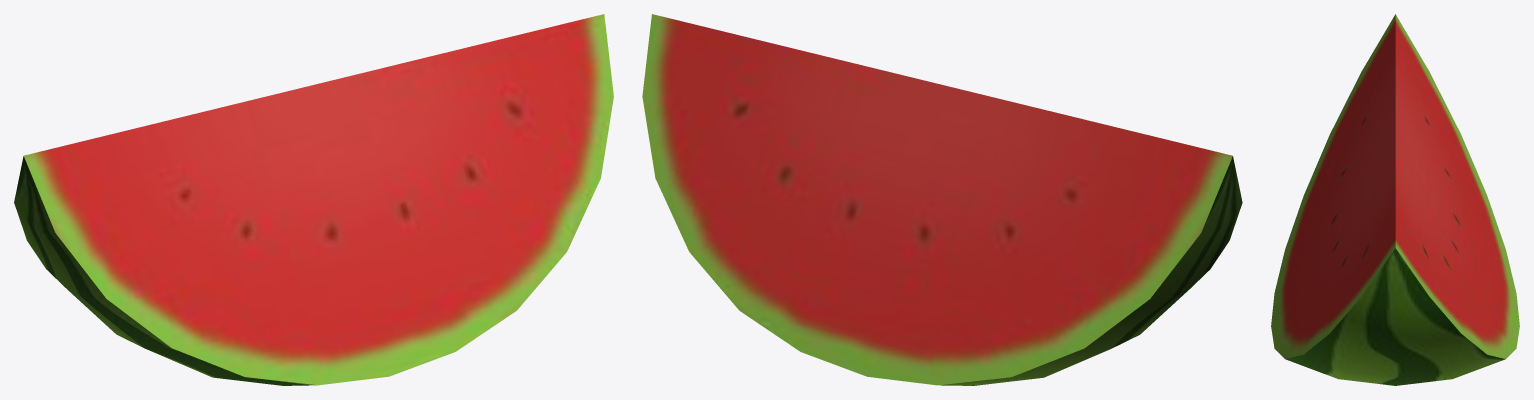
The model's file is watermelon.glb.
3 renders of one model, left to right at view 1: azimuth 30°, elevation 25°; view 2: azimuth 150°, elevation 25°; view 3: azimuth 270°, elevation 25°, orthographic. The views are drawn at different scales.
Size of the model in its own units: 1 by 0.4495 by 0.4495.
Materials: 1 (1 with a texture image).
